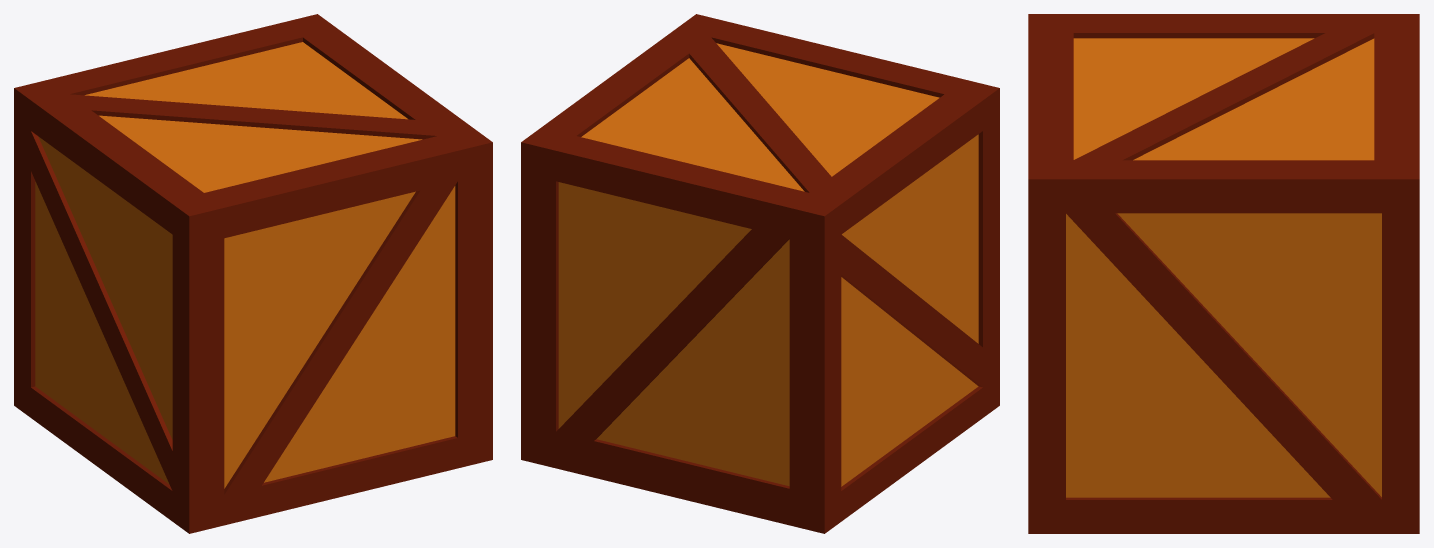
File: caisse_bois.fbx
The picture shows the model from 3 angles, left to right: view 1: azimuth 30°, elevation 25°; view 2: azimuth 150°, elevation 25°; view 3: azimuth 270°, elevation 25°; orthographic projection. The views are drawn at different scales.
Parts seen in each view (by area): view 1: caisse_bois, Face6, Face3, Face1; view 2: caisse_bois, Face5, Face3, Face1; view 3: caisse_bois, Face4, Face1.
Boxes of the visible parts, x1,y1,x2,y2 form: caisse_bois: [14, 14, 492, 533]; Face6: [224, 186, 455, 488]; Face3: [35, 136, 172, 484]; Face1: [85, 42, 422, 192]; caisse_bois: [521, 14, 999, 533]; Face5: [558, 182, 789, 486]; Face3: [841, 134, 978, 486]; Face1: [581, 43, 939, 191]; caisse_bois: [1028, 14, 1419, 533]; Face4: [1066, 213, 1381, 497]; Face1: [1073, 38, 1374, 160].
Bounding box in the file's own units: 1040 × 1040 × 1040.
